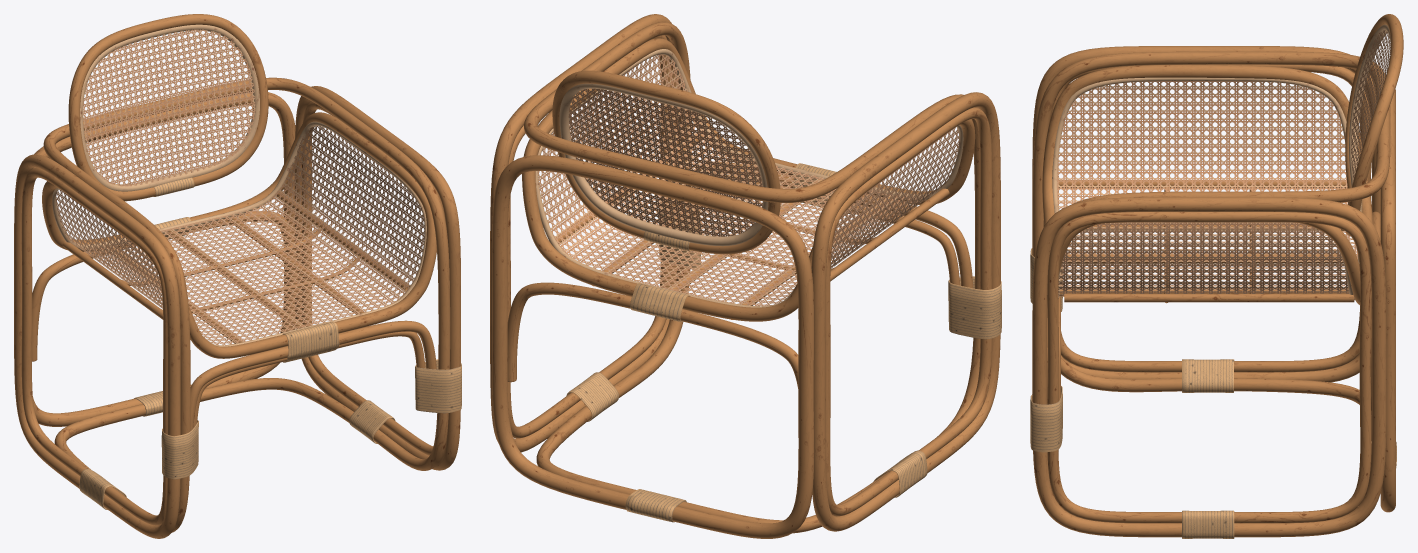
Rendered from chair-rattan-lounge.glb.
3 views of the same model, side by side, from view 1: azimuth 30°, elevation 25°; view 2: azimuth 150°, elevation 25°; view 3: azimuth 270°, elevation 25° (orthographic). The views are drawn at different scales.
Visible parts, largest first — view 1: SM_TheMasie_Armchair_EMBA_Natural_HP_M_Chair_Wood_Bentwood_N, SM_TheMasie_Armchair_EMBA_Natural_HP, SM_TheMasie_Armchair_EMBA_Natural_HP_M_Waved_Rattan_Natural_, SM_TheMasie_Armchair_EMBA_Natural_HP_M_Chair_Wood_Bentwood_B; view 2: SM_TheMasie_Armchair_EMBA_Natural_HP_M_Chair_Wood_Bentwood_N, SM_TheMasie_Armchair_EMBA_Natural_HP, SM_TheMasie_Armchair_EMBA_Natural_HP_M_Waved_Rattan_Natural_, SM_TheMasie_Armchair_EMBA_Natural_HP_M_Chair_Wood_Bentwood_B; view 3: SM_TheMasie_Armchair_EMBA_Natural_HP_M_Chair_Wood_Bentwood_N, SM_TheMasie_Armchair_EMBA_Natural_HP, SM_TheMasie_Armchair_EMBA_Natural_HP_M_Waved_Rattan_Natural_, SM_TheMasie_Armchair_EMBA_Natural_HP_M_Chair_Wood_Bentwood_B.
Part boxes in pixels (left/top/right/bottom): SM_TheMasie_Armchair_EMBA_Natural_HP_M_Chair_Wood_Bentwood_N: left=14, top=14, right=460, bottom=538; SM_TheMasie_Armchair_EMBA_Natural_HP: left=56, top=29, right=424, bottom=345; SM_TheMasie_Armchair_EMBA_Natural_HP_M_Waved_Rattan_Natural_: left=79, top=177, right=461, bottom=509; SM_TheMasie_Armchair_EMBA_Natural_HP_M_Chair_Wood_Bentwood_B: left=52, top=24, right=426, bottom=346; SM_TheMasie_Armchair_EMBA_Natural_HP_M_Chair_Wood_Bentwood_N: left=490, top=14, right=1000, bottom=538; SM_TheMasie_Armchair_EMBA_Natural_HP: left=538, top=54, right=959, bottom=305; SM_TheMasie_Armchair_EMBA_Natural_HP_M_Waved_Rattan_Natural_: left=566, top=163, right=1001, bottom=522; SM_TheMasie_Armchair_EMBA_Natural_HP_M_Chair_Wood_Bentwood_B: left=535, top=49, right=963, bottom=307; SM_TheMasie_Armchair_EMBA_Natural_HP_M_Chair_Wood_Bentwood_N: left=1032, top=14, right=1403, bottom=537; SM_TheMasie_Armchair_EMBA_Natural_HP: left=1057, top=30, right=1390, bottom=296; SM_TheMasie_Armchair_EMBA_Natural_HP_M_Waved_Rattan_Natural_: left=1030, top=200, right=1396, bottom=538; SM_TheMasie_Armchair_EMBA_Natural_HP_M_Chair_Wood_Bentwood_B: left=1052, top=24, right=1390, bottom=300.
Bounding box in the file's own units: 0.861 × 1.07 × 0.8523.
4 materials, 4 textured.
